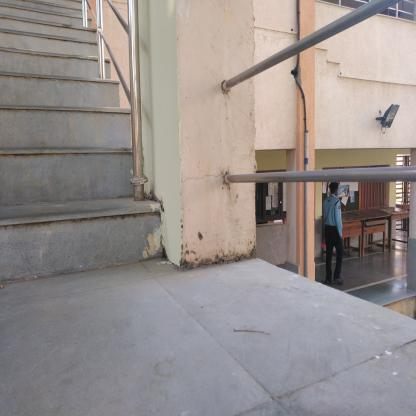stairs: (4, 100, 121, 294)
